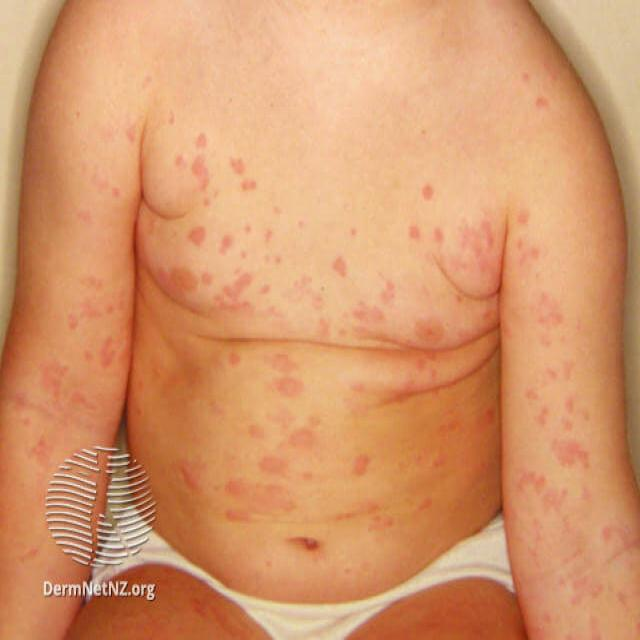hives: (147, 99, 500, 538), (506, 200, 637, 630), (10, 89, 142, 493)
